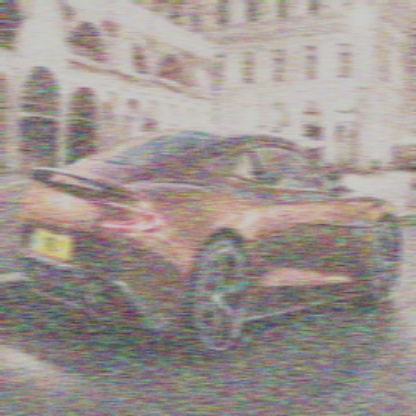Vehicle: (16, 120, 403, 363)
